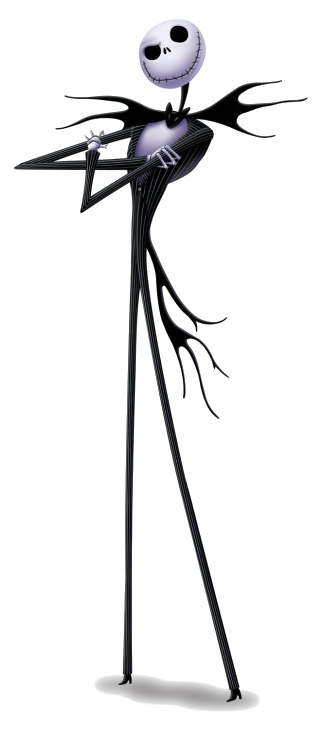Jack Skellington: (14, 18, 311, 705)
